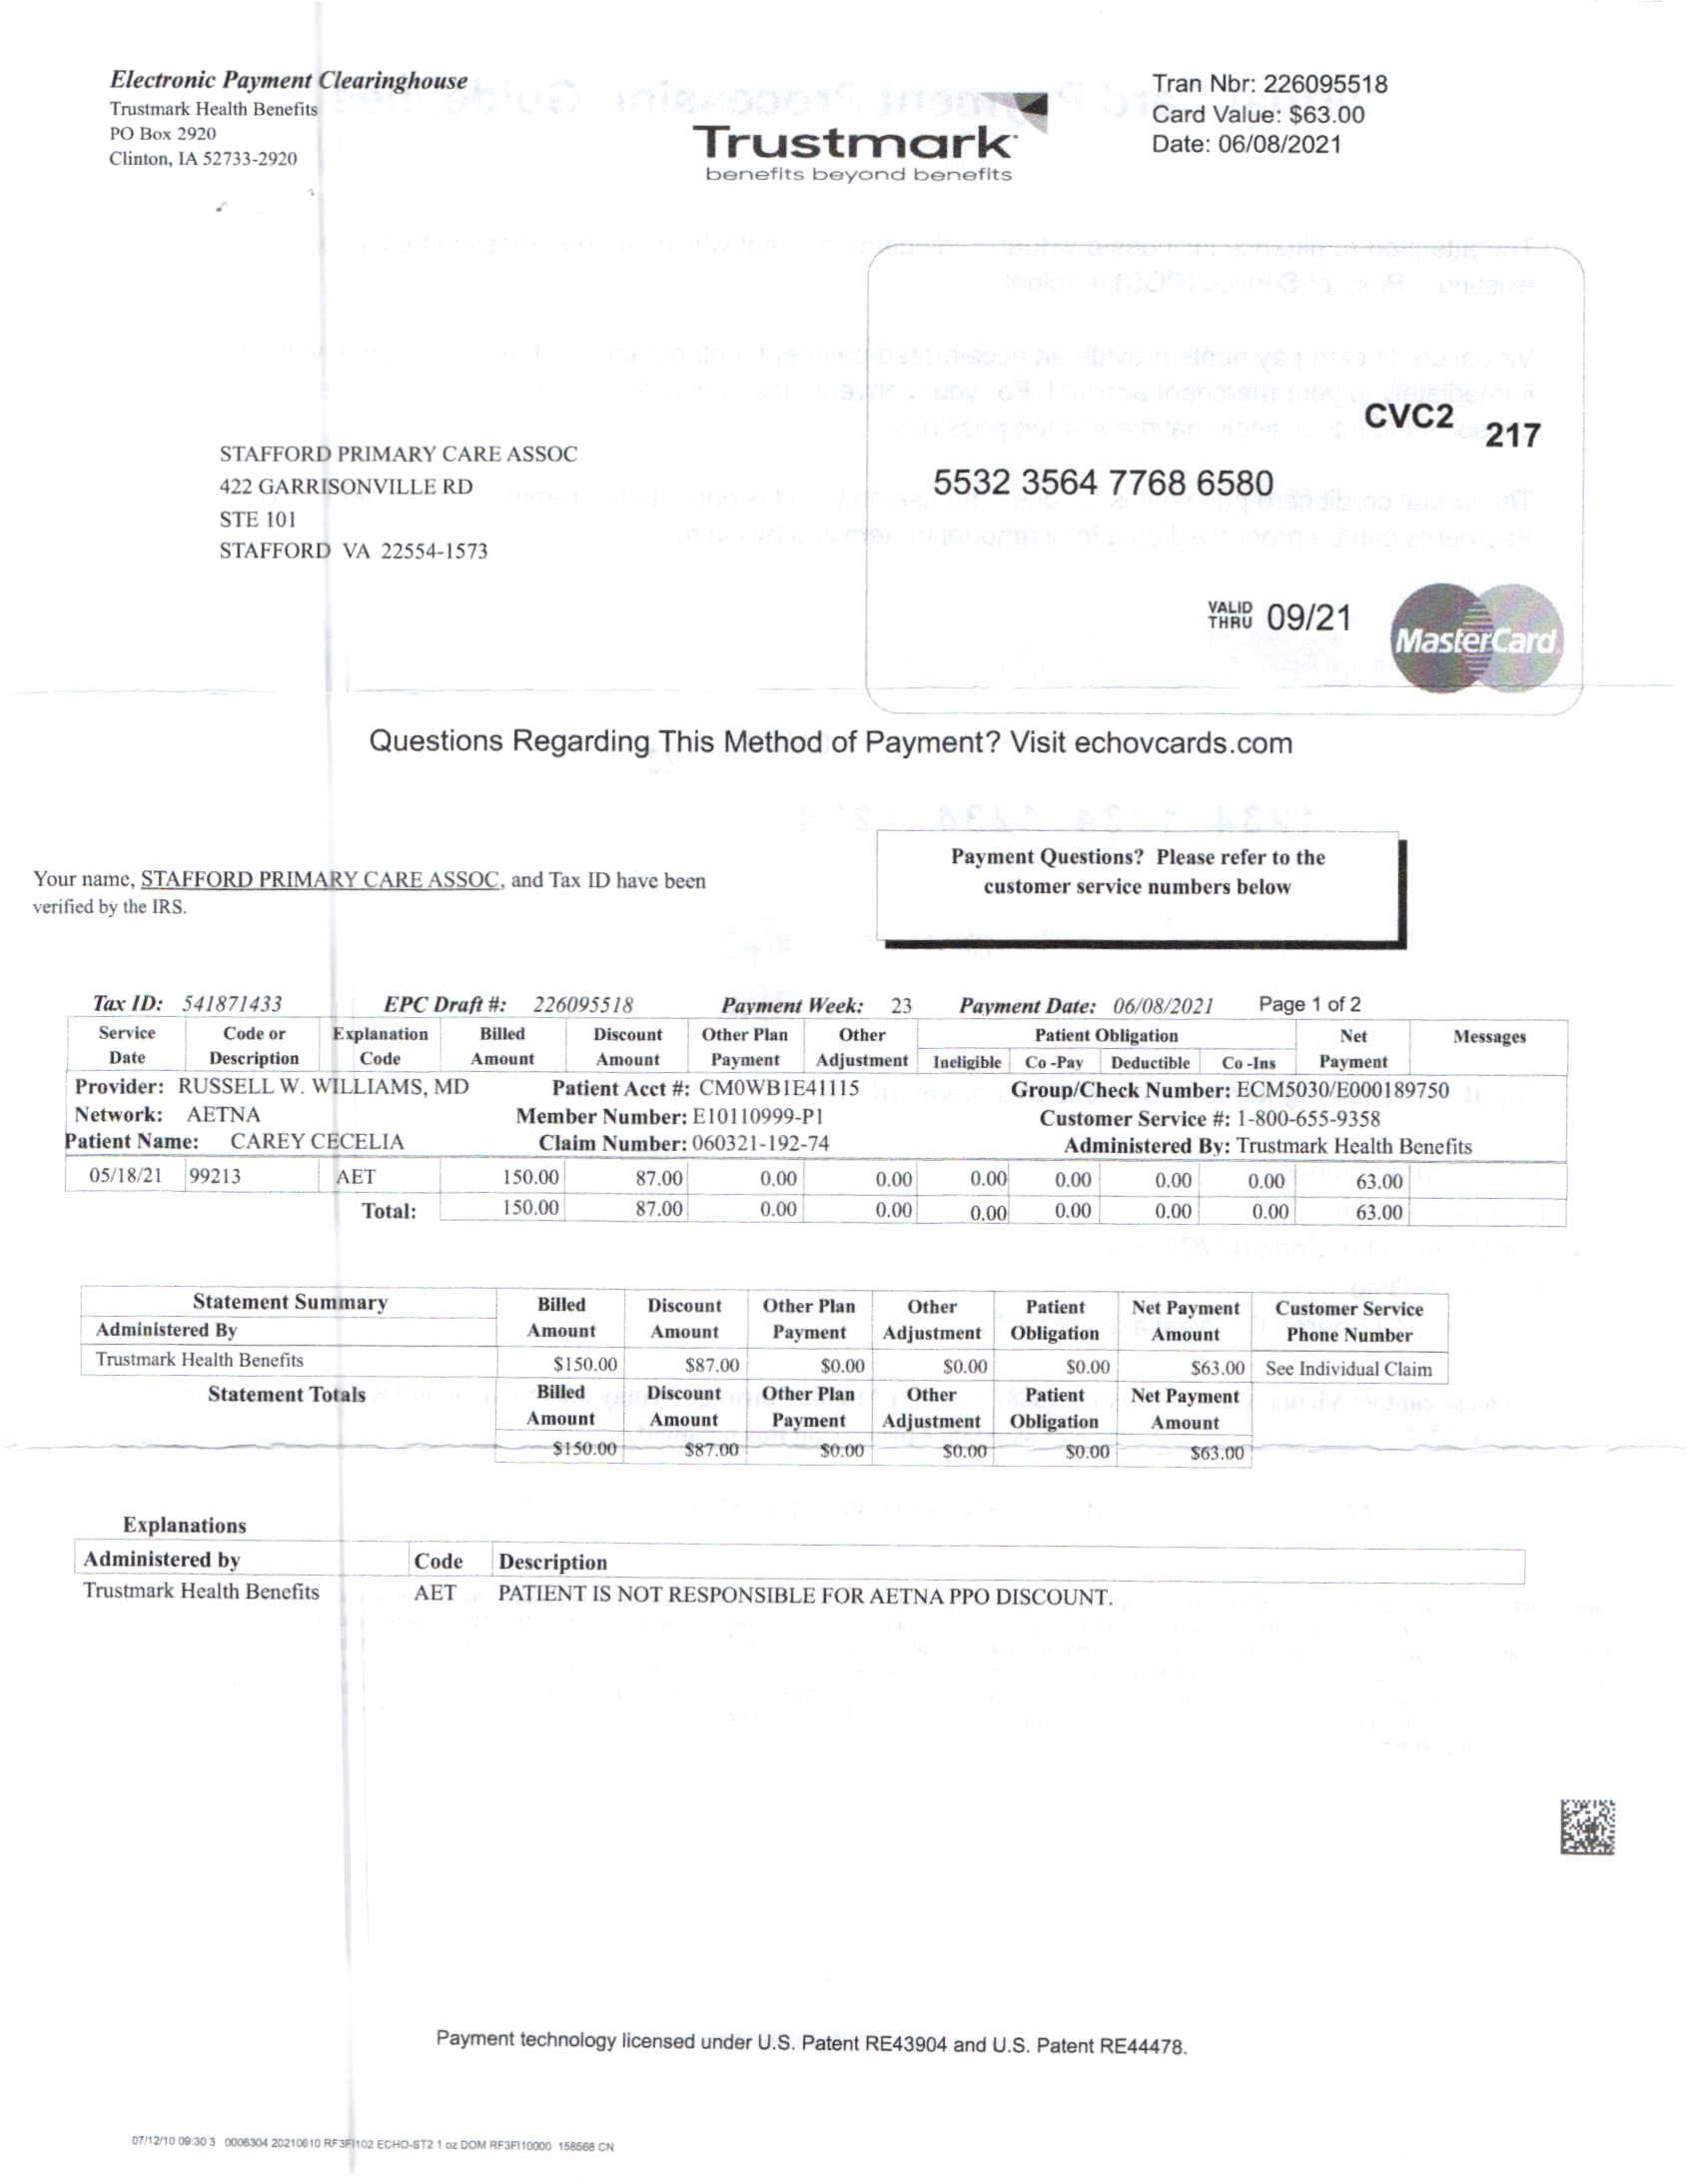data: (190, 392, 580, 583)
table: (46, 966, 1595, 1239), (44, 1273, 1457, 1487)
